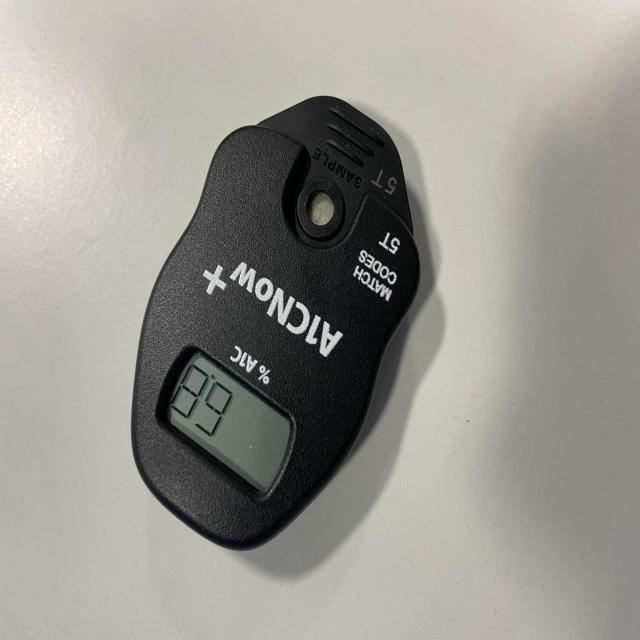hba1c: (129, 95, 422, 555)
